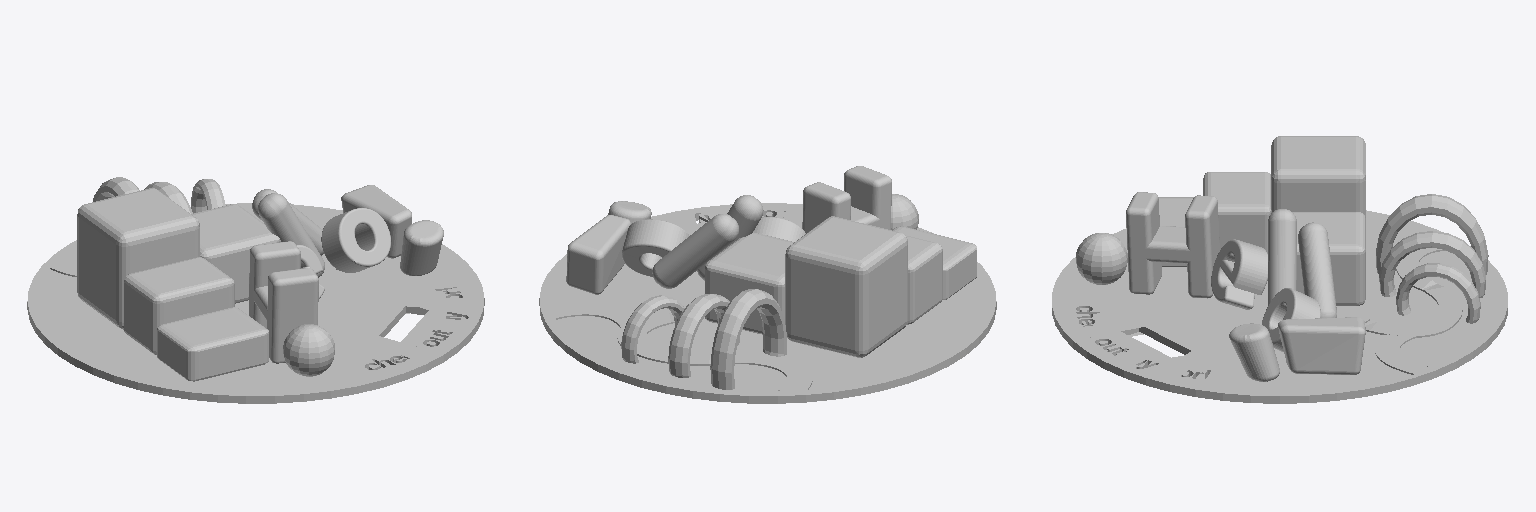
The model's file is hello.obj.
3 renders of one model, left to right at view 1: azimuth 30°, elevation 25°; view 2: azimuth 150°, elevation 25°; view 3: azimuth 270°, elevation 25°, orthographic.
Parts seen in each view (by area): view 1: 000_Cylinder_&_3D_Text_3_-_c_&_3D_Text_3_-_h_&_3D_Text_3_-_e_&_3, 013_Box_-_baked, 014_Box_-_baked, 015_Box_-_baked, 008_H_-_H_-_baked, 012_Box_-_baked, 003_!_-_!_-_baked, 004_3D_Text_2_-_o_-_baked, 001_ball_-_baked, 005_3D_Text_1_-_l_-_baked, 011_sm_ring, 006_3D_Text_1_-_l_-_baked (+2 smaller); view 2: 000_Cylinder_&_3D_Text_3_-_c_&_3D_Text_3_-_h_&_3D_Text_3_-_e_&_3, 013_Box_-_baked, 012_Box_-_baked, 003_!_-_!_-_baked, 008_H_-_H_-_baked, 009_l_ring, 002_road, 006_3D_Text_1_-_l_-_baked, 014_Box_-_baked, 004_3D_Text_2_-_o_-_baked, 010_m_ring, 015_Box_-_baked (+4 smaller); view 3: 000_Cylinder_&_3D_Text_3_-_c_&_3D_Text_3_-_h_&_3D_Text_3_-_e_&_3, 013_Box_-_baked, 008_H_-_H_-_baked, 003_!_-_!_-_baked, 014_Box_-_baked, 012_Box_-_baked, 002_road, 007_3D_Text_-_e_-_baked, 009_l_ring, 010_m_ring, 006_3D_Text_1_-_l_-_baked, 005_3D_Text_1_-_l_-_baked (+4 smaller).
Part boxes in pixels (x1,y1,x2,y2): 000_Cylinder_&_3D_Text_3_-_c_&_3D_Text_3_-_h_&_3D_Text_3_-_e_&_3: (27,203,484,403); 013_Box_-_baked: (77,188,199,329); 014_Box_-_baked: (124,257,234,354); 015_Box_-_baked: (157,307,268,381); 008_H_-_H_-_baked: (249,241,318,363); 012_Box_-_baked: (192,204,280,303); 003_!_-_!_-_baked: (341,185,443,275); 004_3D_Text_2_-_o_-_baked: (321,208,390,272); 001_ball_-_baked: (283,324,334,376); 005_3D_Text_1_-_l_-_baked: (258,193,324,277); 011_sm_ring: (191,179,225,212); 006_3D_Text_1_-_l_-_baked: (252,189,323,255); 000_Cylinder_&_3D_Text_3_-_c_&_3D_Text_3_-_h_&_3D_Text_3_-_e_&_3: (539,203,996,403); 013_Box_-_baked: (785,216,907,357); 012_Box_-_baked: (705,232,793,334); 003_!_-_!_-_baked: (566,201,651,294); 008_H_-_H_-_baked: (802,166,891,233); 009_l_ring: (710,289,786,389); 002_road: (546,304,812,390); 006_3D_Text_1_-_l_-_baked: (652,214,738,288); 014_Box_-_baked: (905,235,942,324); 004_3D_Text_2_-_o_-_baked: (622,219,688,276); 010_m_ring: (668,294,739,377); 015_Box_-_baked: (892,226,976,299); 000_Cylinder_&_3D_Text_3_-_c_&_3D_Text_3_-_h_&_3D_Text_3_-_e_&_3: (1052,210,1507,403); 013_Box_-_baked: (1271,136,1365,216); 008_H_-_H_-_baked: (1126,192,1219,298); 003_!_-_!_-_baked: (1229,317,1365,381); 014_Box_-_baked: (1203,172,1271,252); 012_Box_-_baked: (1293,212,1365,305); 002_road: (1365,248,1462,374); 007_3D_Text_-_e_-_baked: (1211,239,1267,309); 009_l_ring: (1376,194,1488,274); 010_m_ring: (1379,231,1485,297); 006_3D_Text_1_-_l_-_baked: (1298,222,1336,317); 005_3D_Text_1_-_l_-_baked: (1268,209,1296,305).
Bounding box in the file's own units: 44.51 × 11.97 × 44.42.